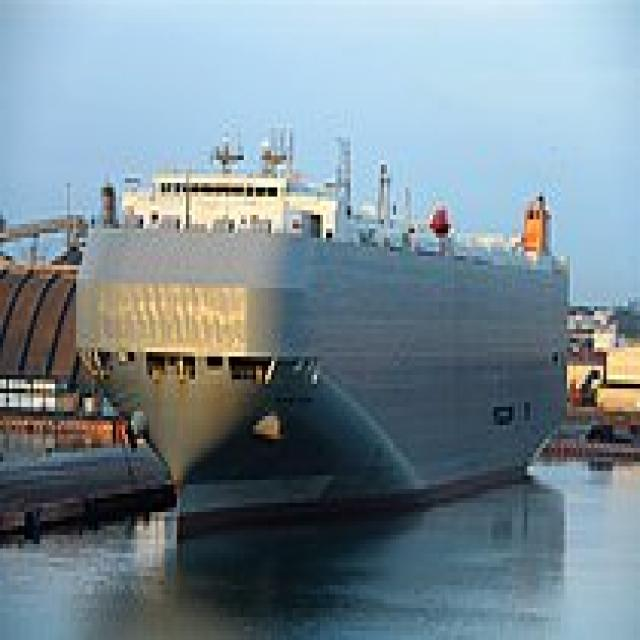Carrier: (67, 119, 570, 521)
